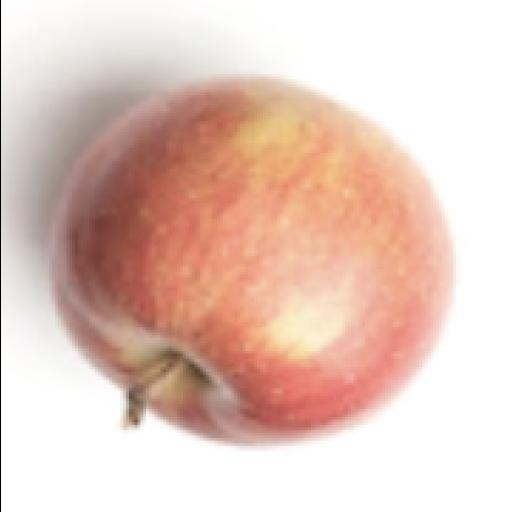apple: (52, 79, 452, 442)
